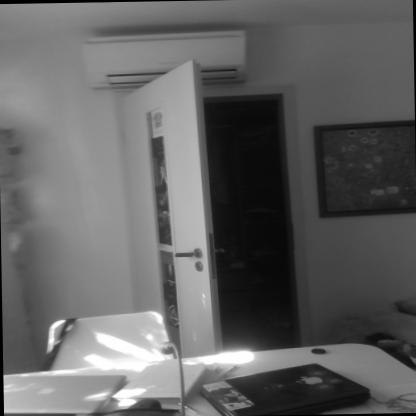semi: (110, 56, 312, 360)
